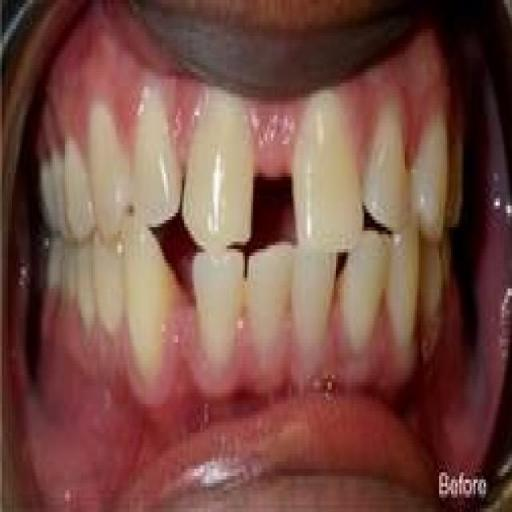spaced: (250, 136, 298, 240), (178, 256, 194, 356), (328, 246, 348, 322)
